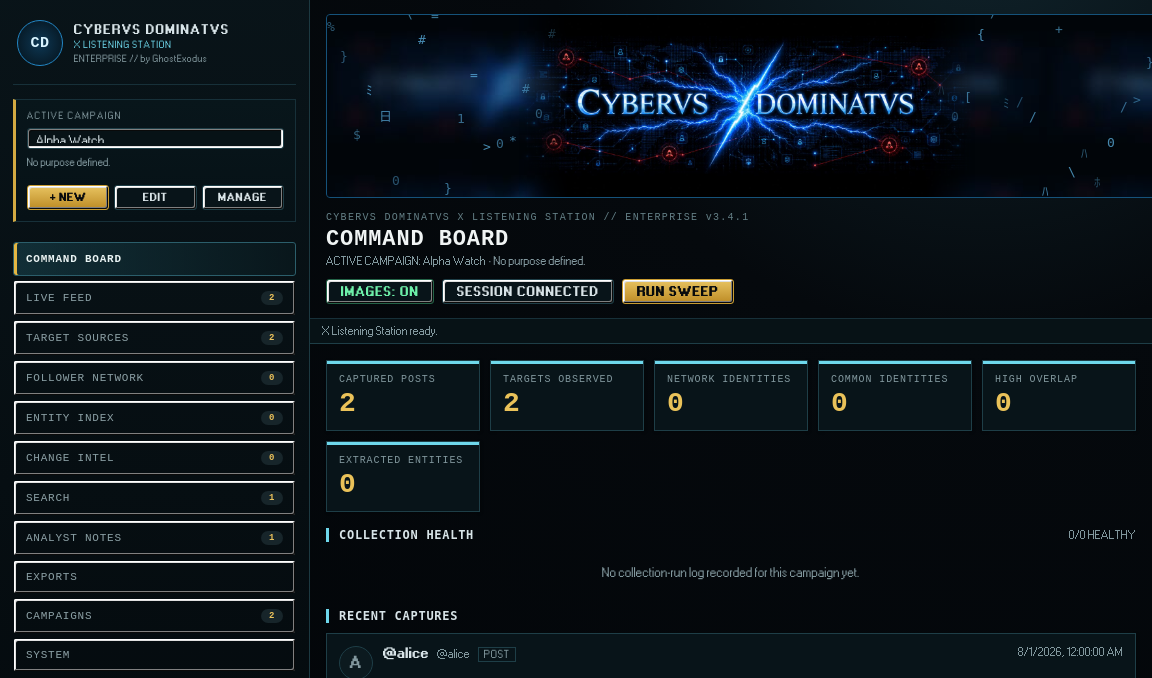
Test: X Listening Station tabs (Task 15) › search tab with an empty query shows a hint, not every post (never a hollow full dump)
Step 1. Click the button with class "xls-tab" showing "SEARCH 1" → (48, 498), box [13,480,296,516]
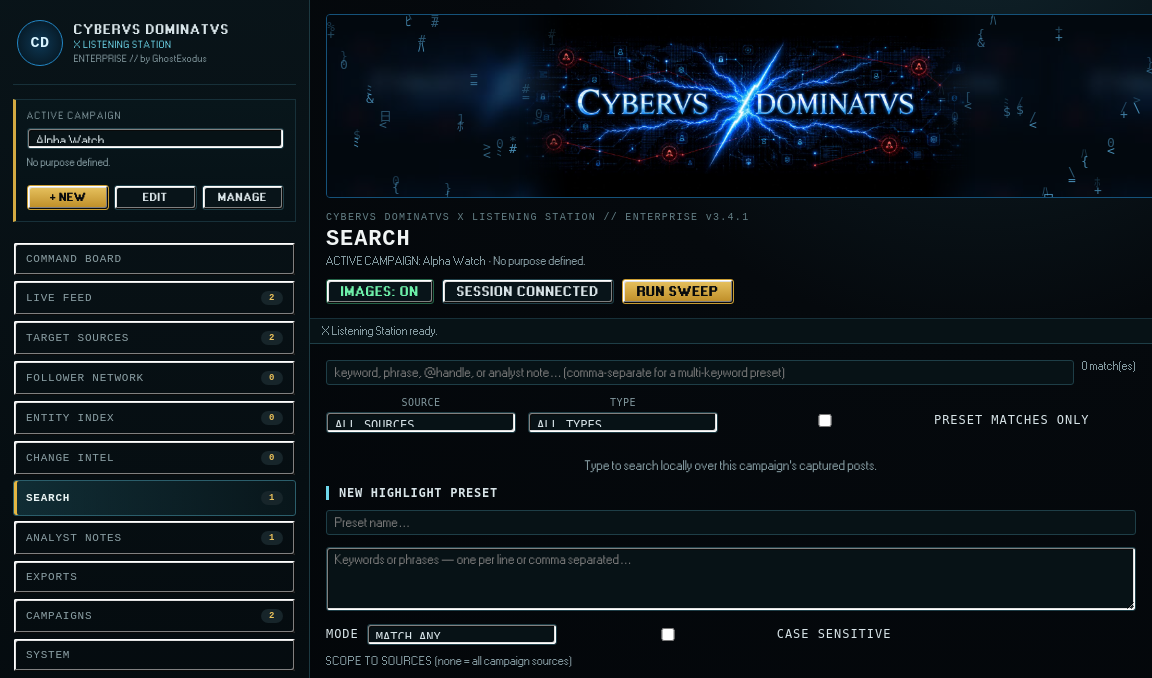
Result: the text "Type to search" is shown at [585,459,877,472]
